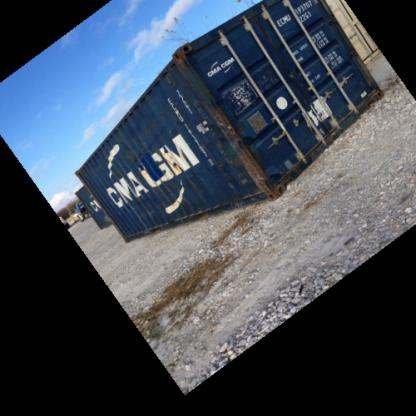Damage: (206, 105, 269, 192), (150, 194, 190, 212), (115, 194, 147, 216), (172, 47, 196, 75), (166, 151, 187, 180), (125, 150, 149, 172)
